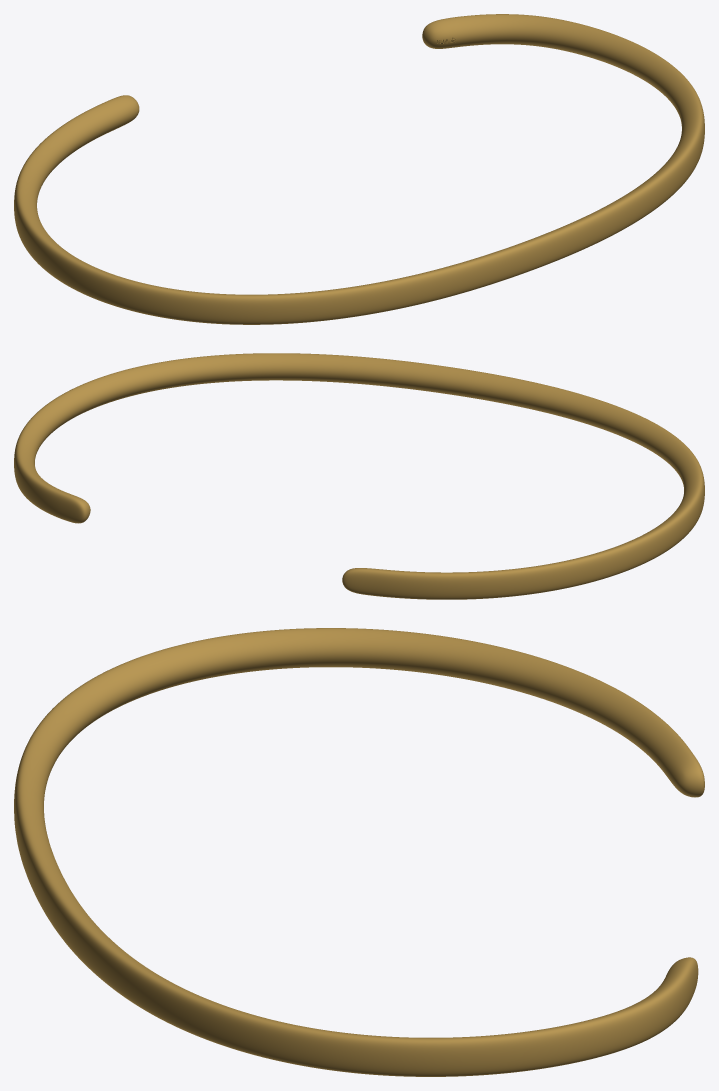
File: bold-gold24.glb
The picture shows the model from 3 angles, top to bottom: view 1: azimuth 30°, elevation 25°; view 2: azimuth 150°, elevation 25°; view 3: azimuth 270°, elevation 25°; orthographic projection. The views are drawn at different scales.
Parts seen in each view (by area): view 1: bold-body.004; view 2: bold-body.004; view 3: bold-body.004.
Boxes of the visible parts, <box> form: bold-body.004: <box>14,14,704,324</box>; bold-body.004: <box>14,353,704,599</box>; bold-body.004: <box>14,628,704,1076</box>.
Bounding box in the file's own units: 3.4 × 0.1422 × 2.38.
Materials: 1 (1 with a texture image).
